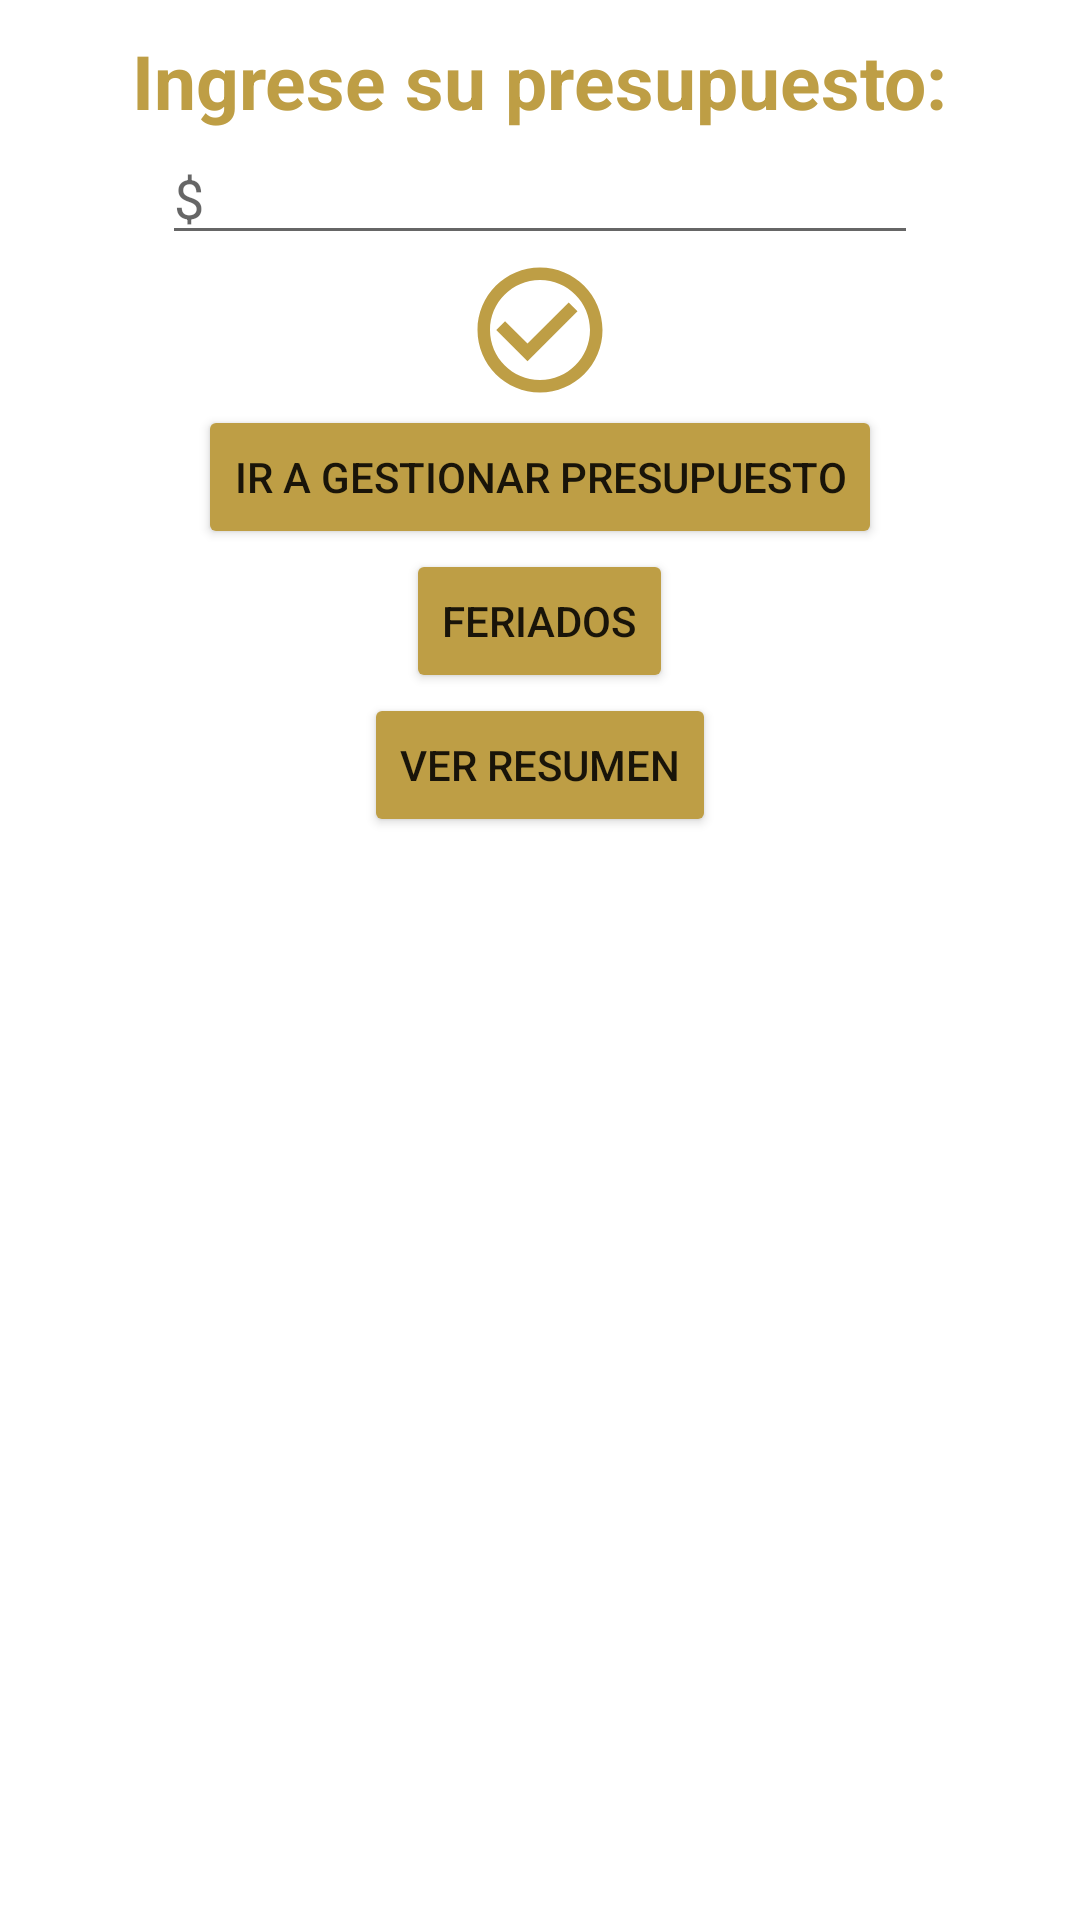

Screen size 1080x1920. Icon name, then its box in pixels as (x1, y1, x2, y2):
check circle: (477, 267, 603, 393)
